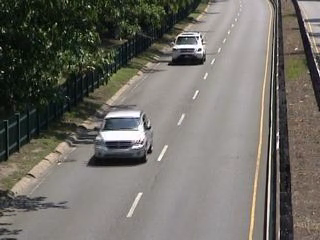car: (91, 107, 159, 166), (168, 29, 210, 67)
